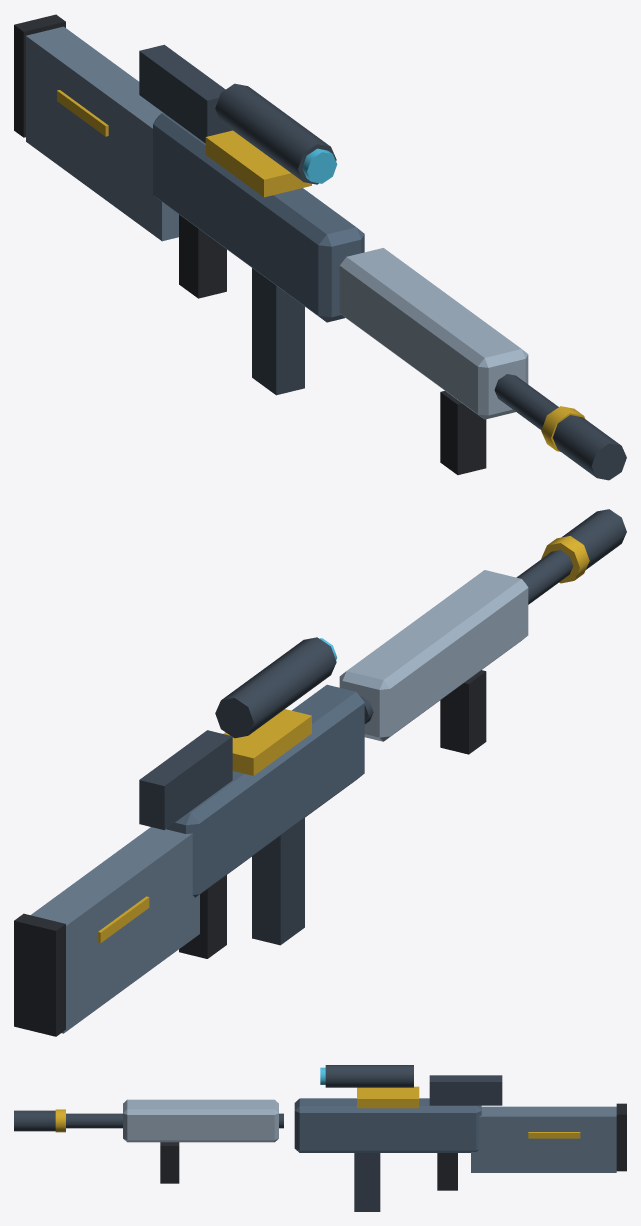
The picture shows the model from 3 angles, top to bottom: view 1: azimuth 30°, elevation 25°; view 2: azimuth 150°, elevation 25°; view 3: azimuth 270°, elevation 25°; orthographic projection. The views are drawn at different scales.
Parts seen in each view (by area): view 1: dweller_weapon_patrol_rifle; view 2: dweller_weapon_patrol_rifle; view 3: dweller_weapon_patrol_rifle.
Part boxes in pixels (<box>): dweller_weapon_patrol_rifle: <box>14,14,626,480</box>; dweller_weapon_patrol_rifle: <box>14,509,626,1036</box>; dweller_weapon_patrol_rifle: <box>14,1065,626,1211</box>.
Bounding box in the file's own units: 0.06 × 0.303 × 1.18.
